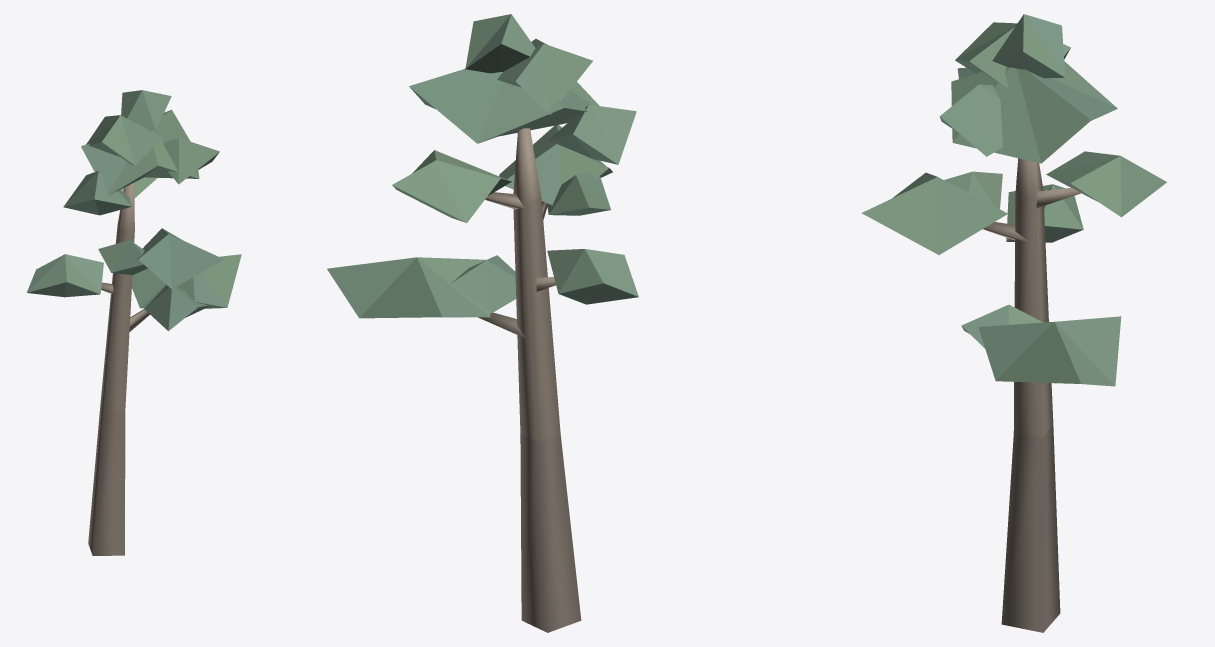
The model's file is FarPine2_leaf.glb.
3 renders of one model, left to right at view 1: azimuth 30°, elevation 25°; view 2: azimuth 150°, elevation 25°; view 3: azimuth 270°, elevation 25°, orthographic. The views are drawn at different scales.
Visible parts, largest first — view 1: FarPine2_leaf; view 2: FarPine2_leaf; view 3: FarPine2_leaf.
Boxes of the visible parts, x1,y1,x2,y2 form: FarPine2_leaf: (26,90,241,555); FarPine2_leaf: (327,14,638,632); FarPine2_leaf: (861,14,1166,632).
Bounding box in the file's own units: 14.62 × 20.68 × 10.11.
